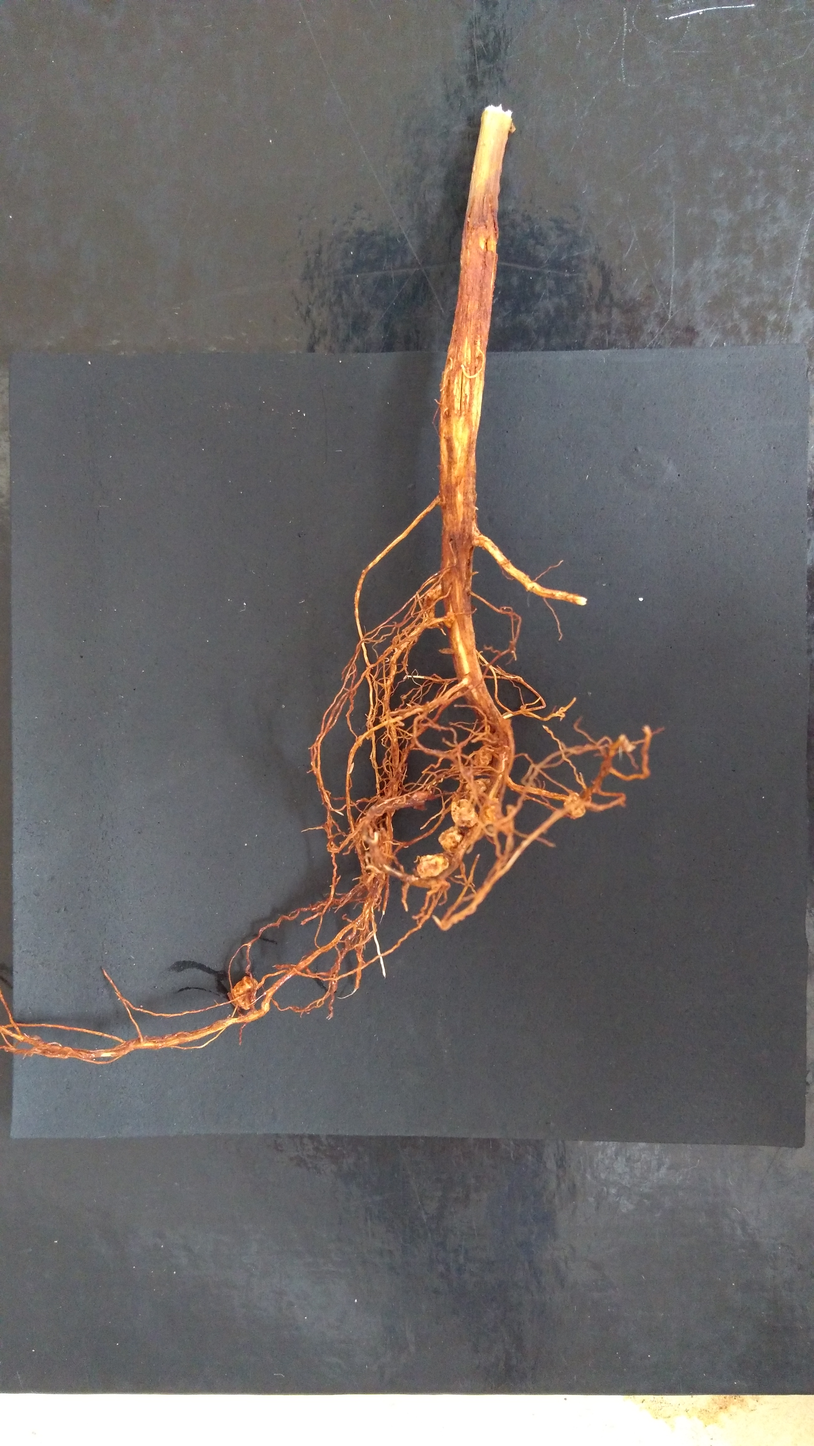nodule: (415, 853, 450, 880), (231, 976, 258, 1010), (438, 827, 471, 854), (451, 798, 479, 829), (480, 797, 501, 835), (564, 792, 586, 820), (473, 745, 493, 769), (465, 777, 492, 793), (492, 730, 508, 754), (358, 814, 379, 830), (481, 730, 499, 748), (618, 734, 636, 752), (458, 765, 475, 783), (425, 585, 442, 600), (442, 611, 456, 629), (378, 825, 391, 844), (412, 789, 429, 801), (506, 804, 517, 817), (424, 617, 438, 626), (472, 538, 479, 547), (519, 704, 527, 710)
